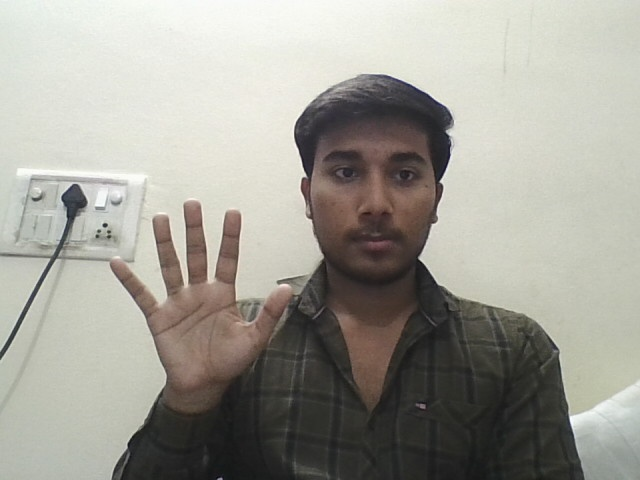hello: (99, 199, 310, 440)
